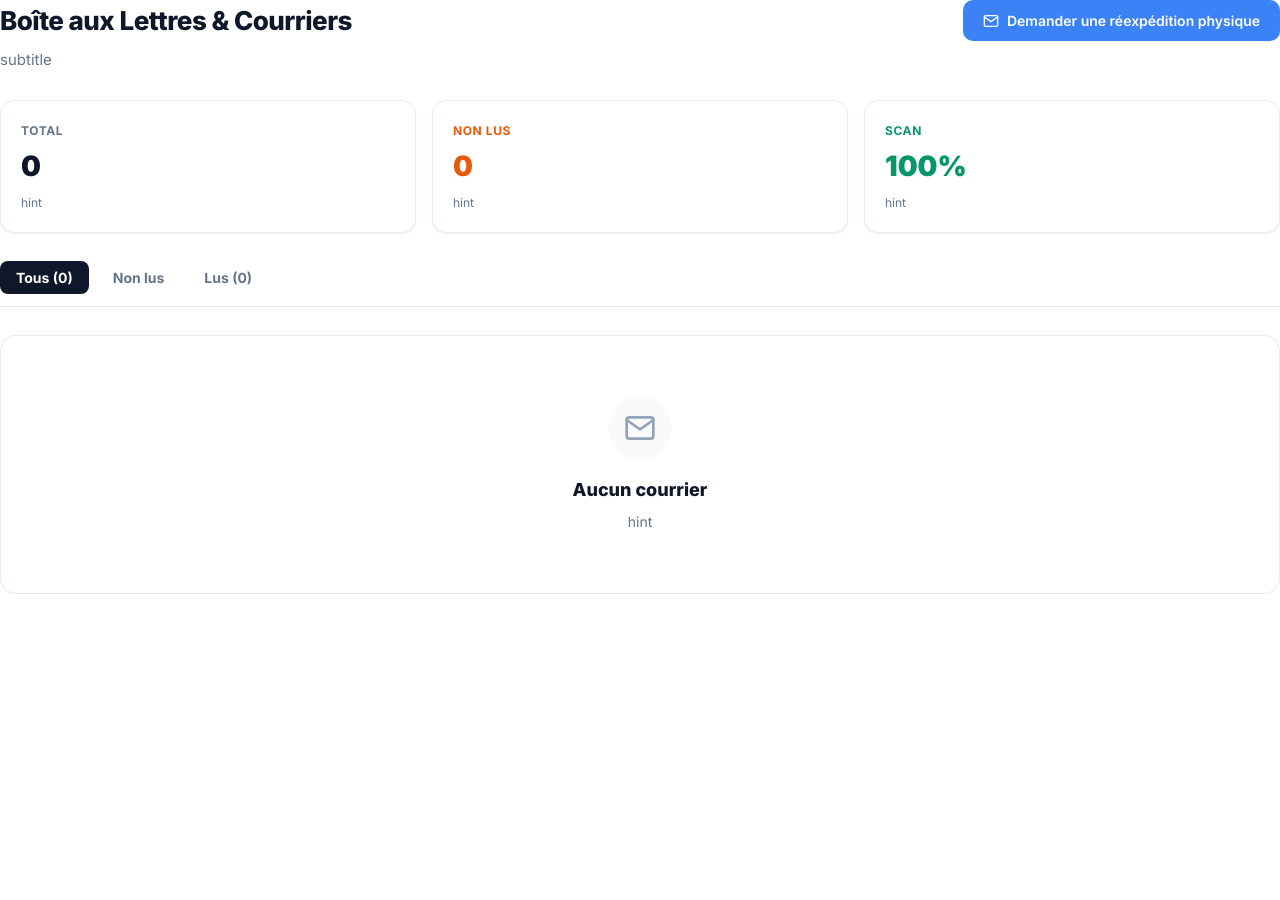
Test: Mail — réexpédition physique › envoie la demande à l’admin pour Scan+
Click the button "Demander une réexpédition physique" at (1122, 20), box [963,0,1279,41]
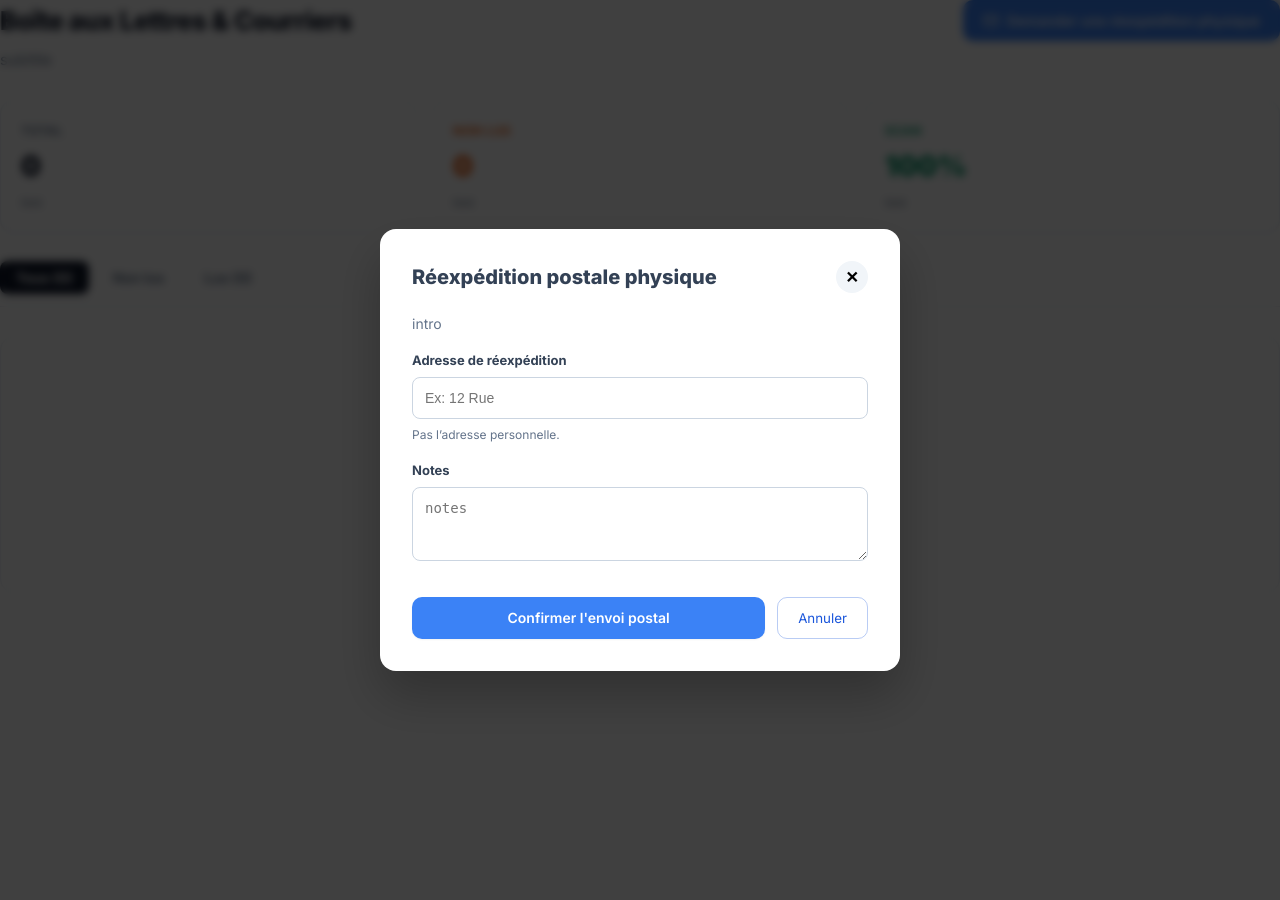
Check: the heading "Réexpédition postale physique" is shown, box [412,261,717,293]
Type "10 rue de la Paix 75002 Paris" into the field with placeholder "Ex: 12 Rue" at (640, 398), box [412,377,868,419]
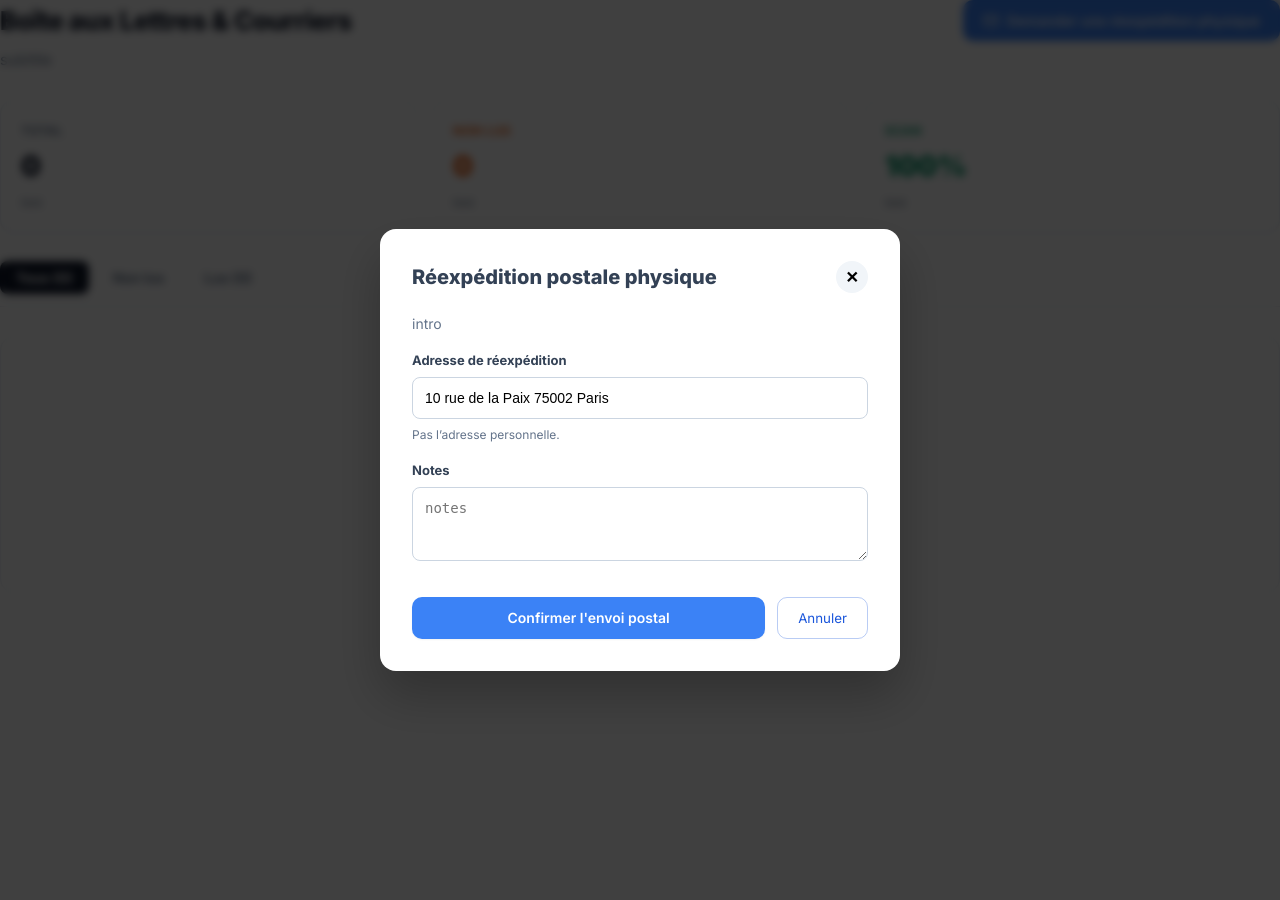
Click the button "Confirmer l'envoi postal" at (589, 618), box [412,597,765,639]
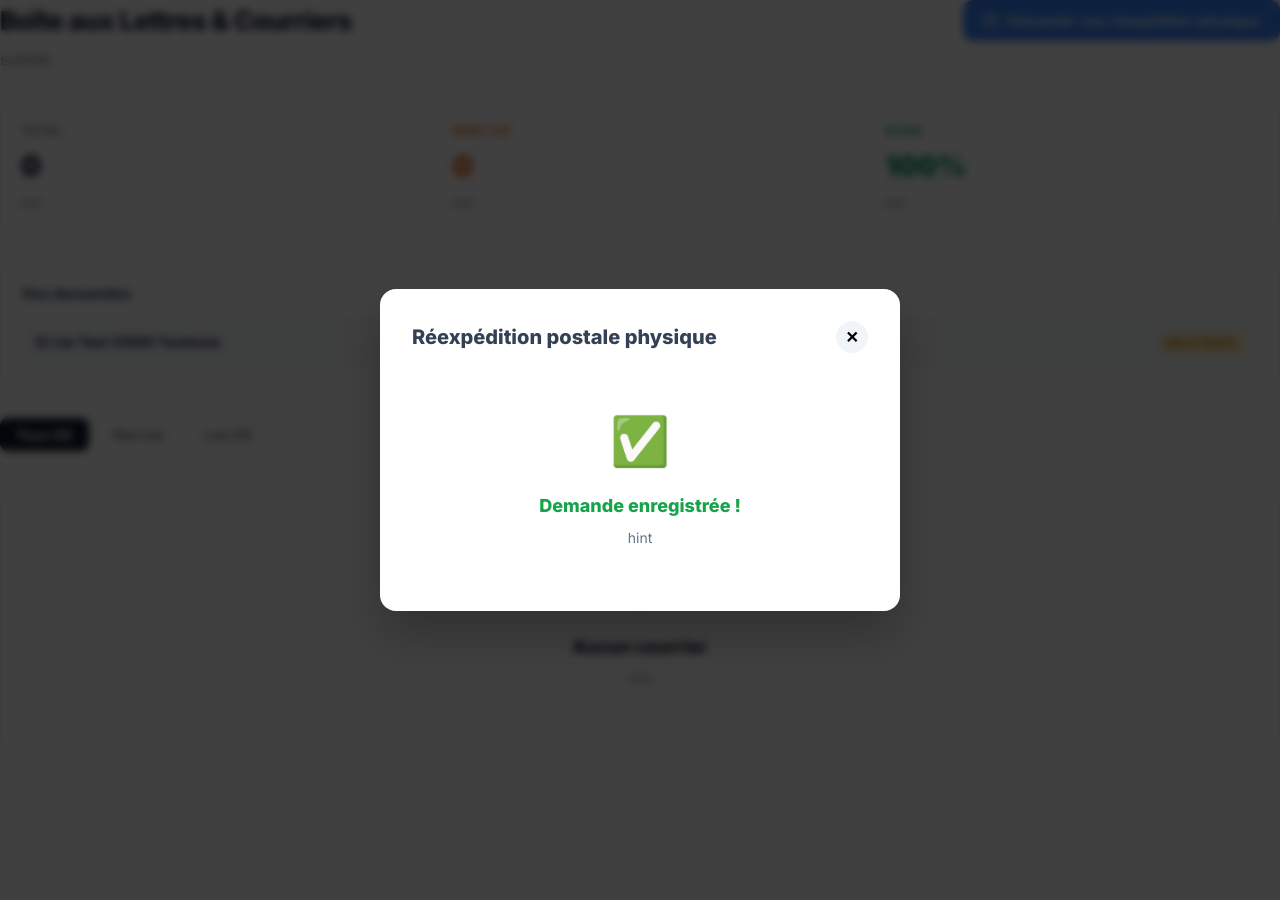
Check: the heading "Demande enregistrée !" is shown, box [539,495,741,516]
